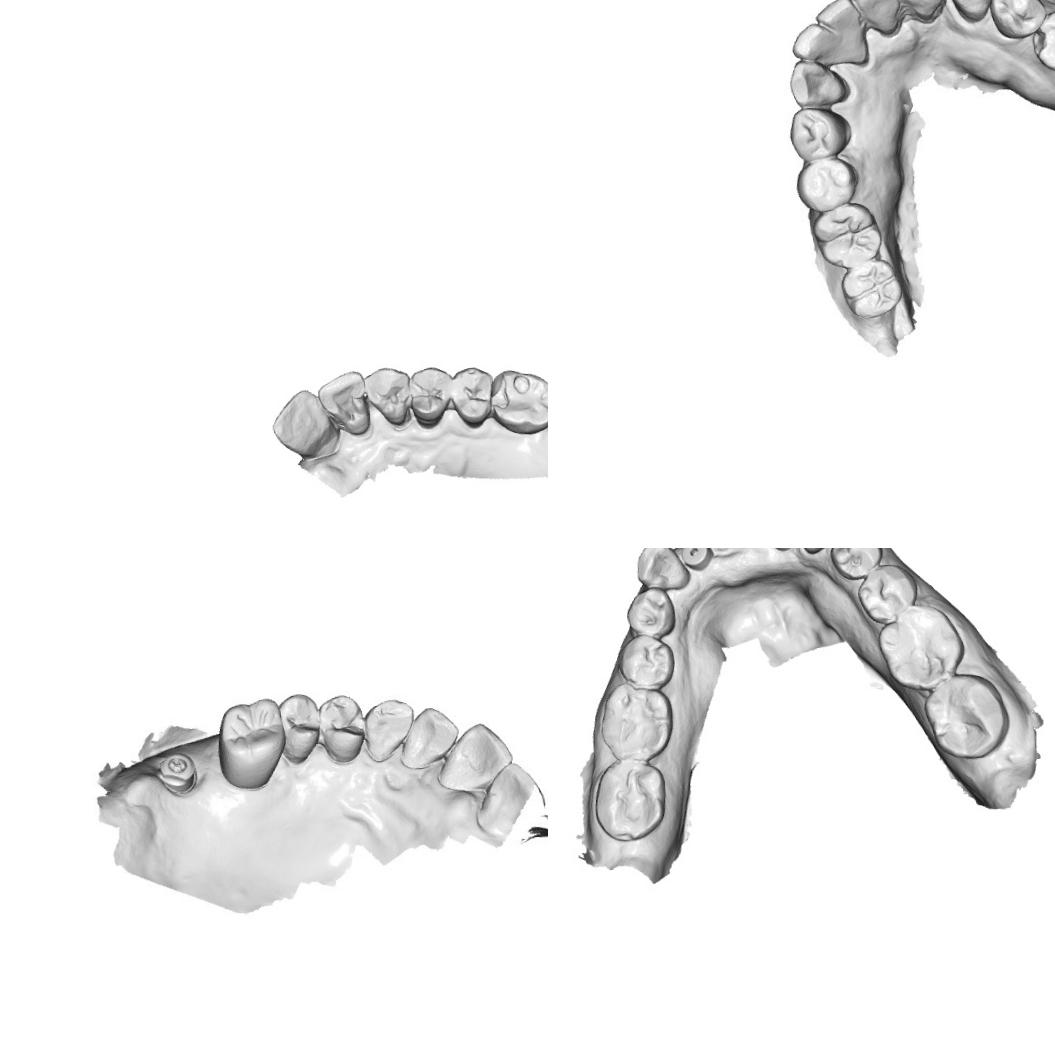canine: (363, 696, 412, 764), (361, 364, 412, 427), (790, 54, 847, 109), (631, 548, 691, 599), (945, 0, 1001, 24), (788, 548, 844, 567)
implant: (158, 751, 198, 798), (676, 548, 718, 572)
incisor: (440, 718, 514, 796), (268, 386, 339, 460), (479, 760, 547, 828), (315, 368, 371, 438), (399, 706, 461, 764), (811, 0, 866, 53), (791, 20, 845, 70), (845, 0, 903, 38), (887, 0, 951, 22)
molar: (914, 671, 1012, 762), (589, 752, 672, 850), (876, 606, 970, 690), (211, 695, 287, 788), (595, 682, 675, 762), (808, 200, 884, 272), (487, 363, 548, 439), (836, 257, 904, 321)
premolar: (853, 558, 925, 632), (791, 155, 861, 215), (786, 104, 852, 165), (612, 627, 674, 690), (317, 693, 368, 765), (621, 582, 680, 640), (406, 364, 456, 430), (450, 364, 496, 430), (280, 688, 319, 758), (982, 0, 1047, 41), (1025, 4, 1055, 74), (826, 548, 884, 581)
